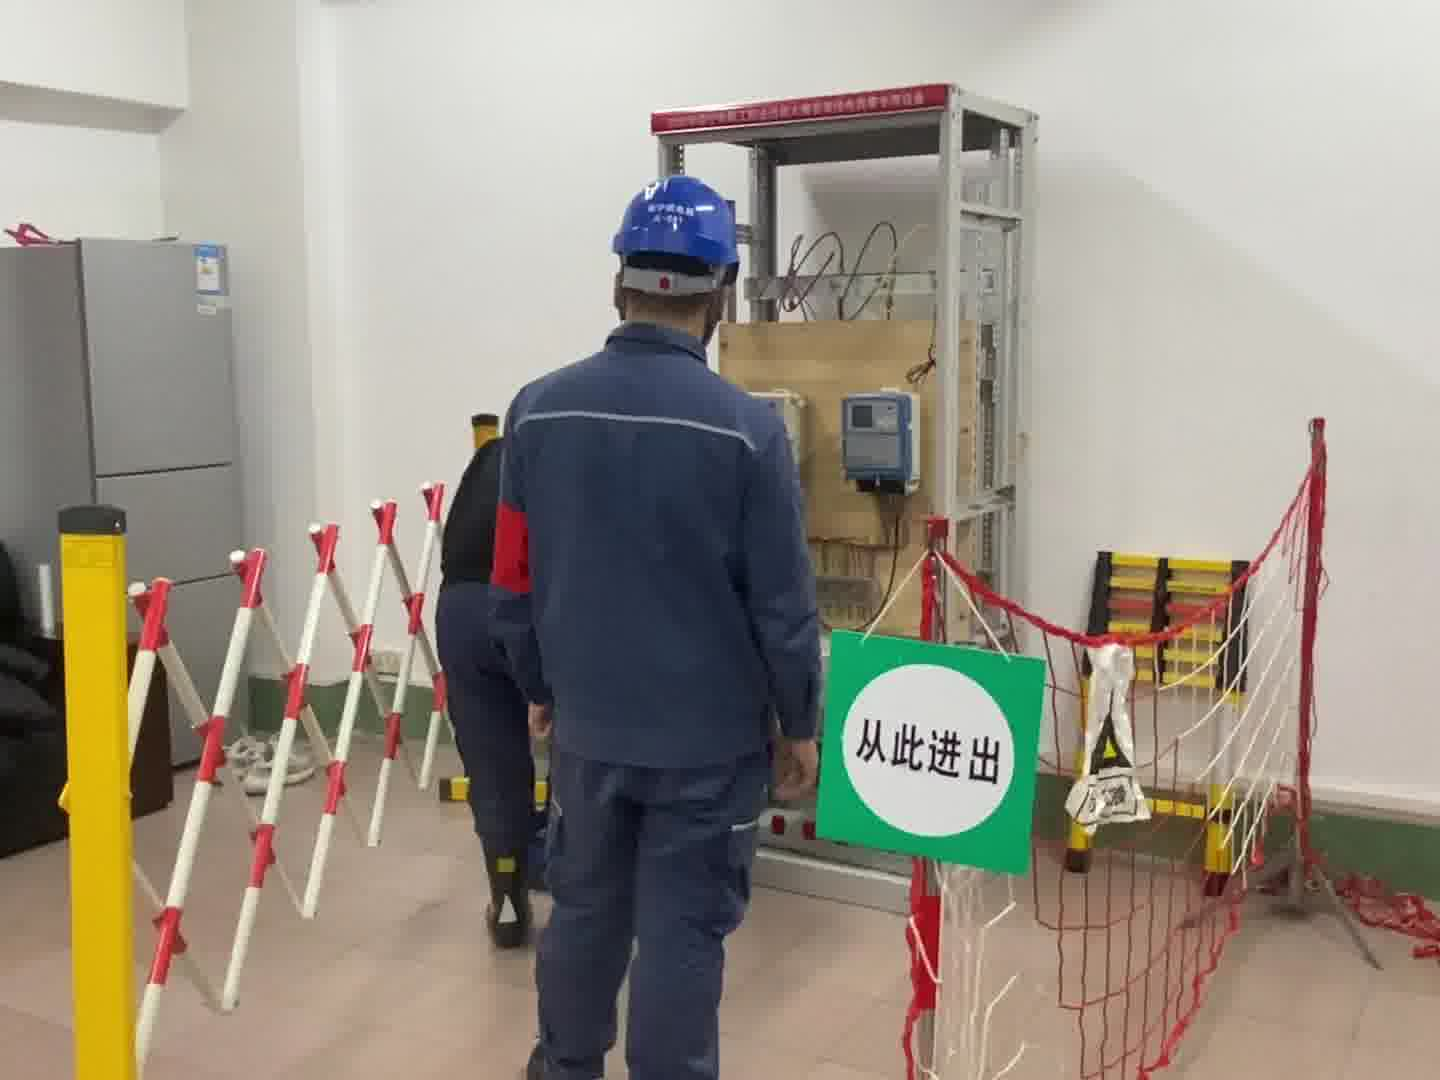badge: (486, 498, 540, 596)
downsuit: (522, 789, 757, 1080)
halt: (608, 173, 748, 335)
hand: (779, 748, 824, 811), (522, 702, 555, 738)
intosign: (815, 651, 1041, 869)
person: (460, 162, 832, 1080)
shoe: (479, 839, 528, 930)
upsuit: (481, 327, 825, 776)
